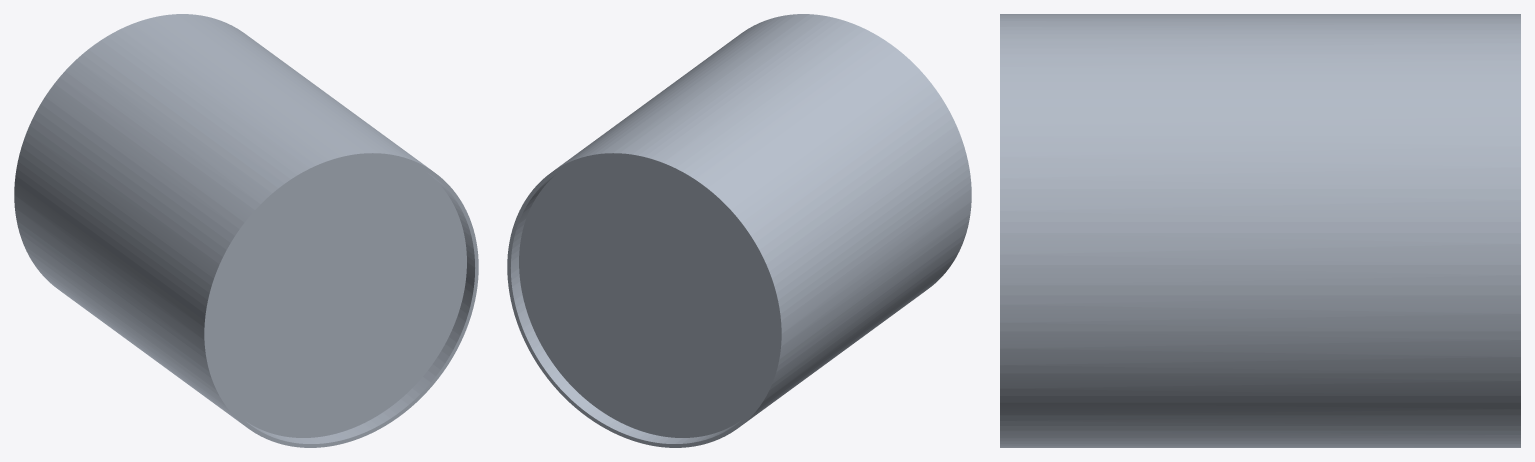
Rendered from carbonator.glb.
3 renders of one model, left to right at view 1: azimuth 30°, elevation 25°; view 2: azimuth 150°, elevation 25°; view 3: azimuth 270°, elevation 25°, orthographic. The views are drawn at different scales.
Visible parts, largest first — view 1: carbonator saved shape; view 2: carbonator saved shape; view 3: carbonator saved shape.
Part boxes in pixels (bbox=[...]): carbonator saved shape: bbox=[14, 14, 478, 447]; carbonator saved shape: bbox=[507, 14, 971, 447]; carbonator saved shape: bbox=[1000, 14, 1520, 447].
Bounding box in the file's own units: 127 × 127 × 152.
